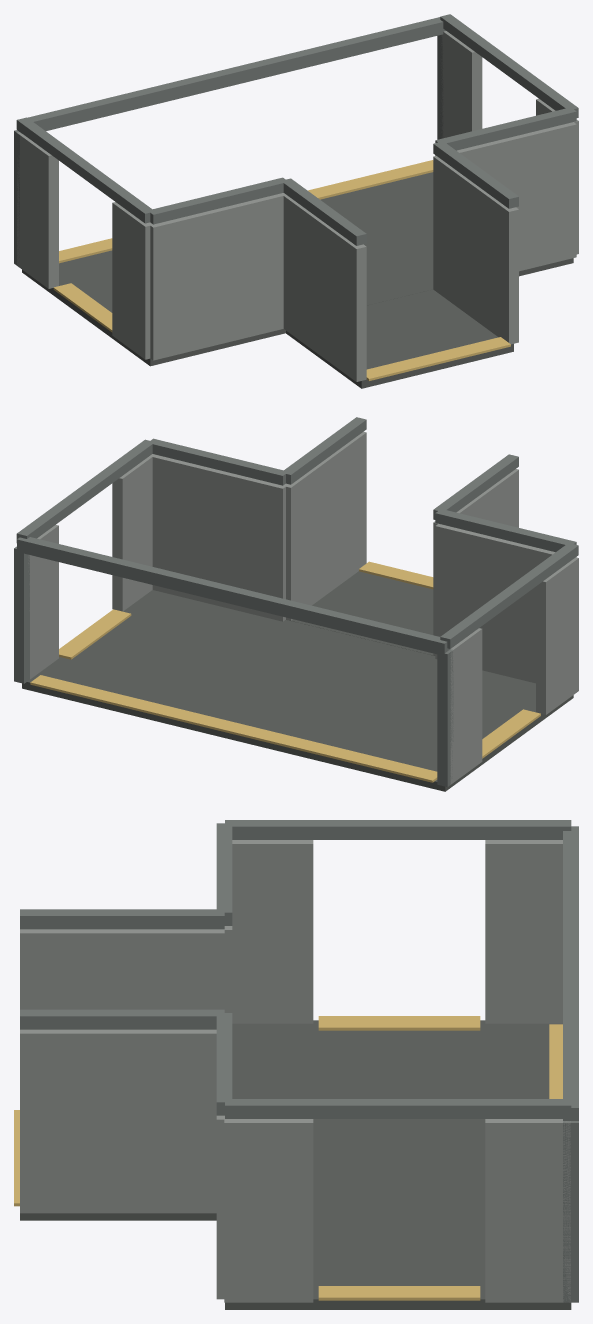
File: cockpit_01.glb
3 views of the same model, one above another, from view 1: azimuth 30°, elevation 25°; view 2: azimuth 150°, elevation 25°; view 3: azimuth 270°, elevation 25° (orthographic). The views are drawn at different scales.
Visible parts, largest first — view 1: rear bay wall left shoulder, front wide bay floor slab, rear stem right wall, rear stem left wall, rear bay wall right shoulder, rear center stem floor slab, front aperture upper lintel, left bay outer wall segment 2, left bay outer wall segment 1, right bay outer wall segment 2, upper left bay rim, upper right bay rim (+10 smaller); view 2: front wide bay floor slab, rear bay wall right shoulder, rear bay wall left shoulder, rear stem right wall, front aperture upper lintel, left bay outer wall segment 1, front broad aperture edge only, rear center stem floor slab, right bay outer wall segment 1, left bay outer wall segment 2, right bay outer wall segment 2, upper left bay rim (+11 smaller); view 3: front wide bay floor slab, rear stem right wall, rear stem left wall, right bay outer wall segment 1, right bay outer wall segment 2, left bay outer wall segment 1, left bay outer wall segment 2, upper right bay rim, upper left bay rim, front aperture upper lintel, upper rear stem left rim, upper rear stem right rim (+9 smaller).
Part boxes in pixels (left/top/right/bottom): rear bay wall left shoulder: left=150, top=193, right=286, bottom=360; front wide bay floor slab: left=22, top=172, right=573, bottom=366; rear stem right wall: left=433, top=156, right=518, bottom=344; rear stem left wall: left=281, top=193, right=366, bottom=381; rear bay wall right shoulder: left=435, top=122, right=576, bottom=271; rear center stem floor slab: left=286, top=289, right=513, bottom=388; front aperture upper lintel: left=17, top=17, right=445, bottom=133; left bay outer wall segment 2: left=17, top=132, right=58, bottom=288; left bay outer wall segment 1: left=112, top=202, right=155, bottom=359; right bay outer wall segment 2: left=440, top=31, right=482, bottom=138; upper left bay rim: left=16, top=117, right=154, bottom=223; upper right bay rim: left=440, top=14, right=578, bottom=117; front wide bay floor slab: left=22, top=590, right=573, bottom=791; rear bay wall right shoulder: left=149, top=454, right=288, bottom=621; rear bay wall left shoulder: left=435, top=523, right=576, bottom=683; rear stem right wall: left=286, top=431, right=366, bottom=620; front aperture upper lintel: left=17, top=537, right=450, bottom=654; left bay outer wall segment 1: left=536, top=557, right=578, bottom=714; front broad aperture edge only: left=30, top=675, right=437, bottom=782; rear center stem floor slab: left=290, top=571, right=433, bottom=655; right bay outer wall segment 1: left=112, top=454, right=154, bottom=611; left bay outer wall segment 2: left=450, top=628, right=482, bottom=784; right bay outer wall segment 2: left=28, top=525, right=58, bottom=679; upper left bay rim: left=440, top=543, right=578, bottom=648; front wide bay floor slab: left=225, top=1020, right=571, bottom=1309; rear stem right wall: left=20, top=1029, right=216, bottom=1213; rear stem left wall: left=20, top=929, right=224, bottom=1009; right bay outer wall segment 1: left=224, top=1116, right=313, bottom=1302; right bay outer wall segment 2: left=485, top=1119, right=570, bottom=1302; left bay outer wall segment 1: left=232, top=840, right=313, bottom=1023; left bay outer wall segment 2: left=485, top=840, right=562, bottom=1023; upper right bay rim: left=225, top=1099, right=571, bottom=1118; upper left bay rim: left=225, top=820, right=571, bottom=839; front aperture upper lintel: left=563, top=826, right=578, bottom=1120; upper rear stem left rim: left=20, top=909, right=224, bottom=929; upper rear stem right rim: left=20, top=1009, right=224, bottom=1029.
Bounding box in the file's own units: 10.24 × 3.47 × 8.56.
